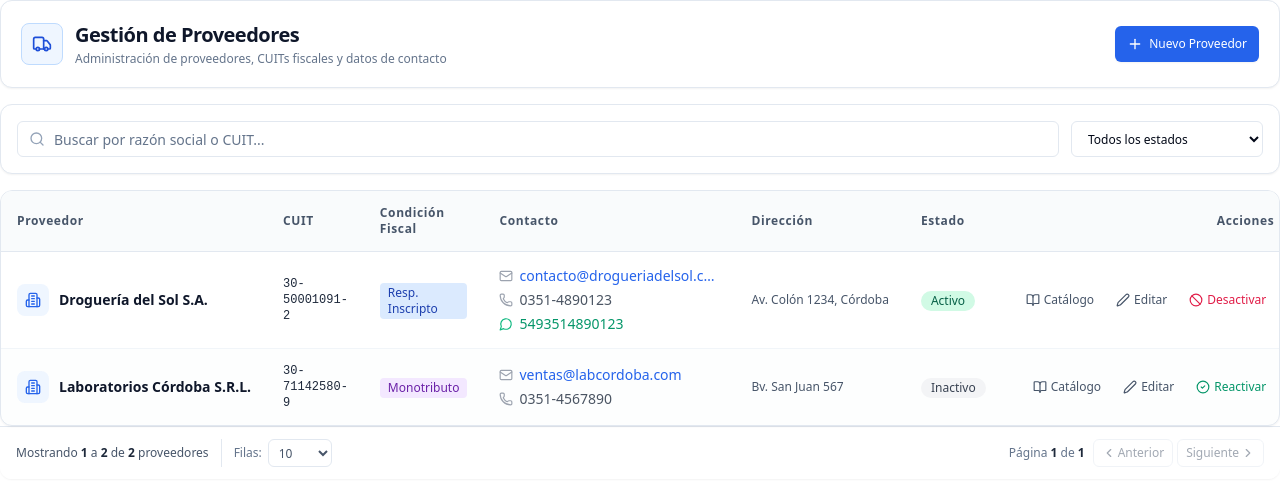
it: SuppliersPage Integration Suite › filters suppliers by status select
The image size is (1280, 484).
Expected: the text "Droguería del Sol S.A." is shown, [59,290,208,310]
Expected: the text "Laboratorios Córdoba S.R.L." is shown, [59,377,251,397]
Select "Activos" in the dropdown named "filtrar por estado" at (1167,139), box [1071,121,1263,157]
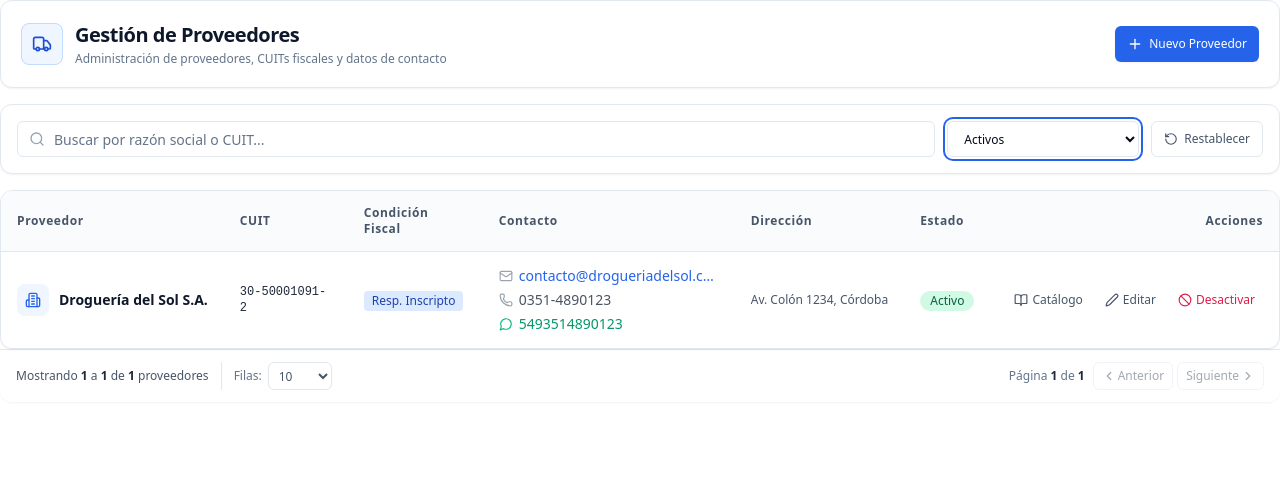
Expected: the text "Droguería del Sol S.A." is shown, [59,290,208,310]
Now the text "Laboratorios Córdoba S.R.L." is gone
